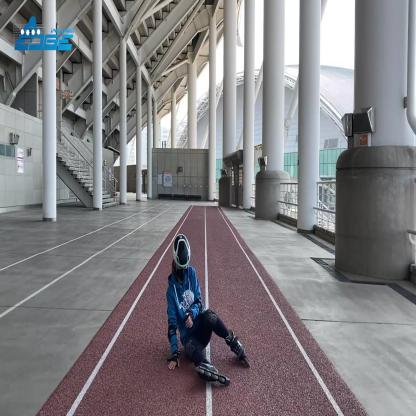Fall_Down: (167, 233, 245, 381)
